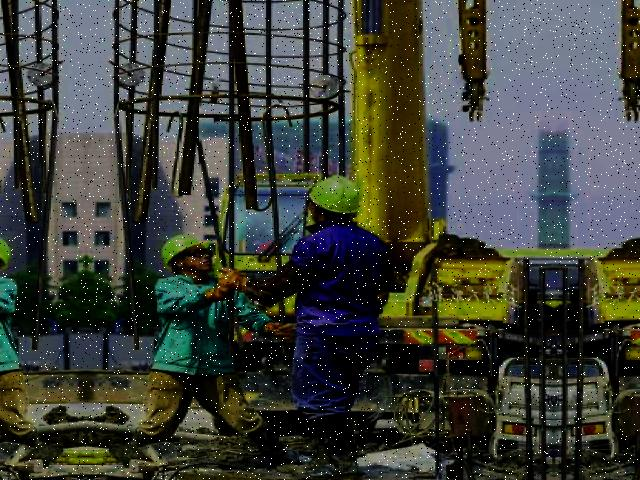Helmet: (300, 170, 370, 219), (159, 230, 221, 270)
